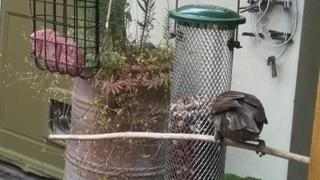starling: (212, 90, 268, 158)
